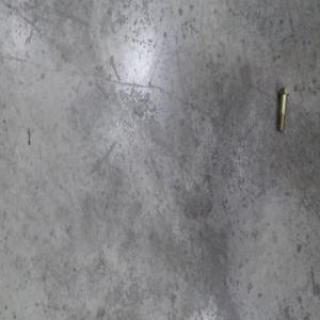Bolttrack_idkeyframe: (272, 85, 286, 131)
